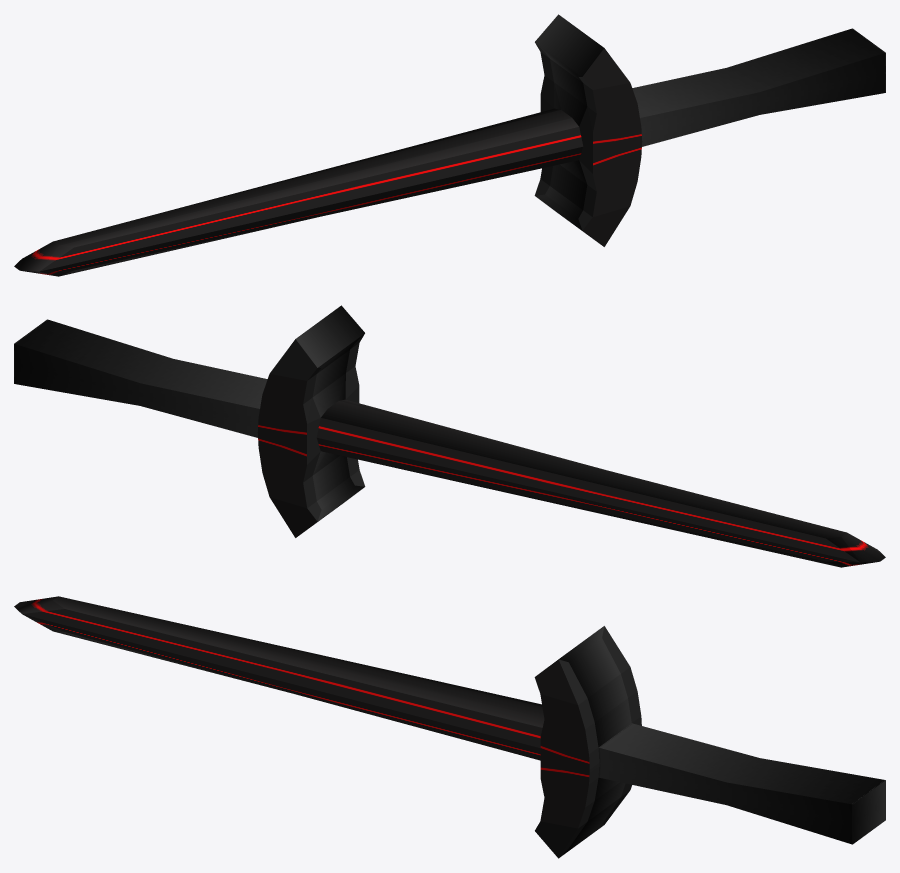
File: excaliburmorgan.FBX
3 views of the same model, one above another, from view 1: azimuth 30°, elevation 25°; view 2: azimuth 150°, elevation 25°; view 3: azimuth 330°, elevation 25° (orthographic).
Parts seen in each view (by area): view 1: Box001; view 2: Box001; view 3: Box001.
Part boxes in pixels (<box>): Box001: <box>14,14,885,276</box>; Box001: <box>14,305,885,567</box>; Box001: <box>14,596,885,858</box>.
Bounding box in the file's own units: 129 × 13.76 × 28.9.
2 materials, 2 textured.
